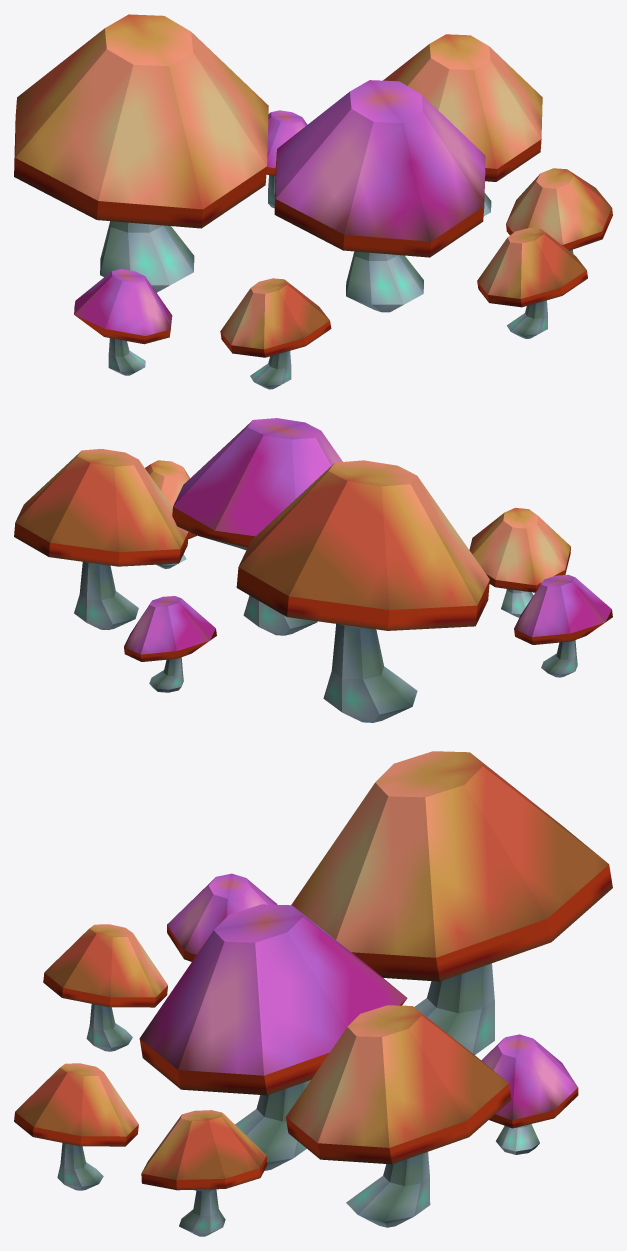
File: Poly_Mushroom_03.obj
3 renders of one model, top to bottom at view 1: azimuth 30°, elevation 25°; view 2: azimuth 150°, elevation 25°; view 3: azimuth 270°, elevation 25°, orthographic. The views are drawn at different scales.
Parts seen in each view (by area): view 1: Cube; view 2: Cube; view 3: Cube.
Part boxes in pixels (box(x1,y1,x2,y2)): Cube: box(14, 14, 612, 389); Cube: box(14, 418, 612, 722); Cube: box(14, 751, 612, 1236).
Bounding box in the file's own units: 0.6955 × 0.3276 × 0.5788.
1 material, 1 textured.
